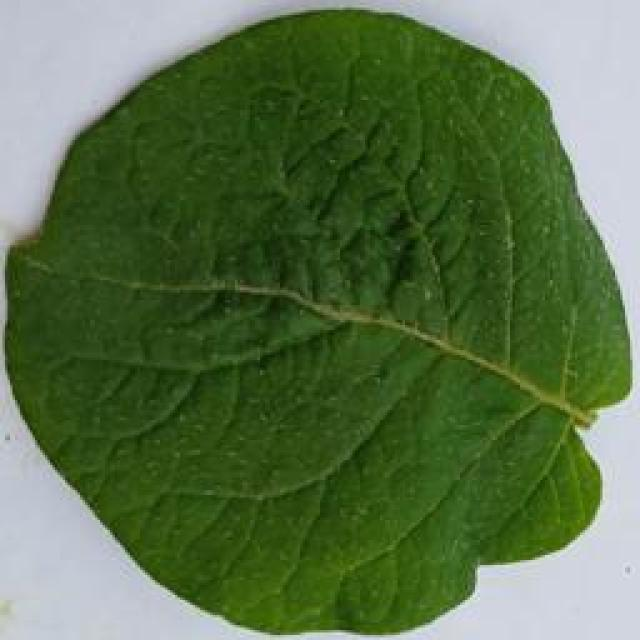Potato_Healthy: (5, 4, 631, 633)
